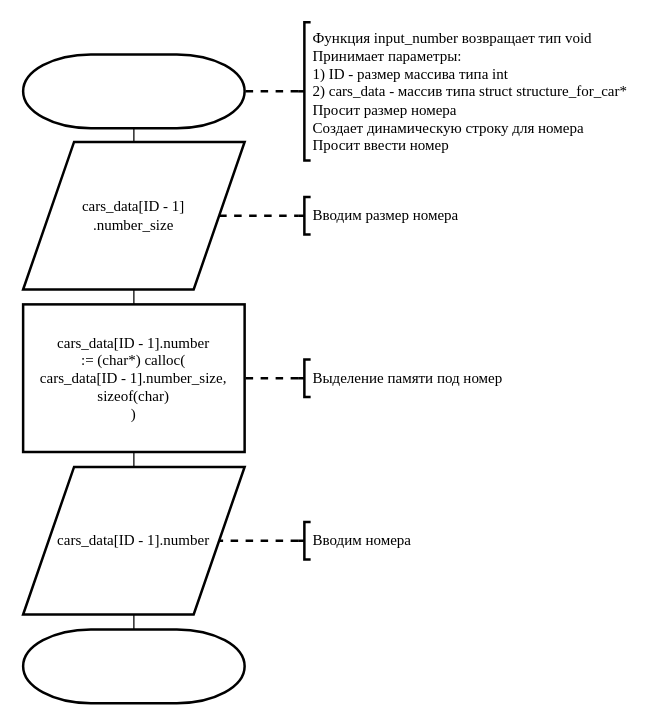
The diagram is 649 pixels wide and 726 high, and some of its shapes have lost their labels. Here are the shapes that lost their labels. From the top down, the centre of each, then its label:
(x=133, y=90): void input_number()
(x=133, y=666): Конец
